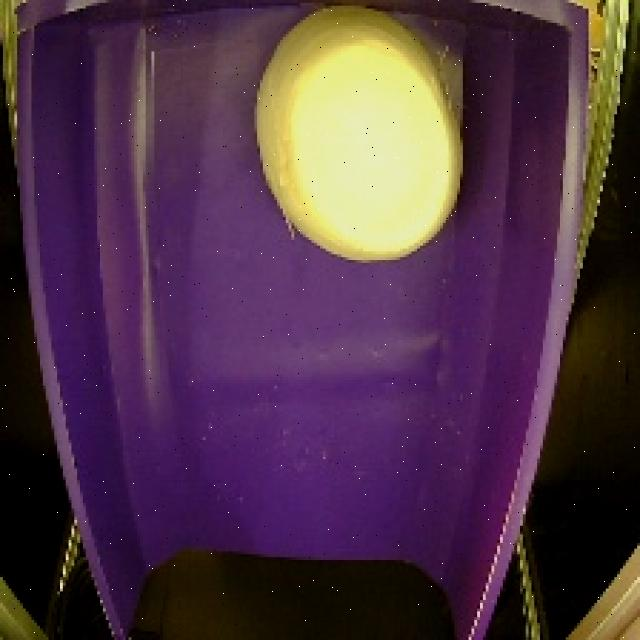white_radish: (251, 2, 476, 276)
